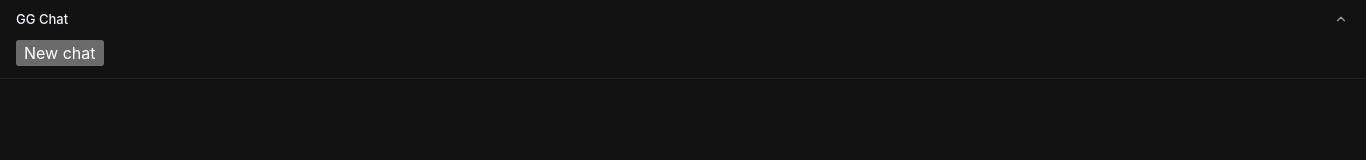
it: WorkspaceHeader › renders the chevron in chat mode and toggles the navbar
The width and height of the screenshot is (1366, 160).
Expected: the text "GG Chat" is shown, [16,11,68,27]
Expected: the button "New chat" is shown, [16,40,104,66]
Click the button named "Hide nav buttons" at (1341, 19), box [1332,10,1350,28]
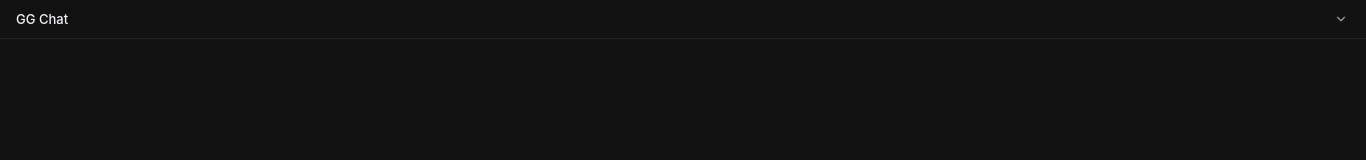
Now the button "New chat" is gone
Now the button named "Show nav buttons" is collapsed
Click the button named "Show nav buttons" at (1341, 19), box [1332,10,1350,28]
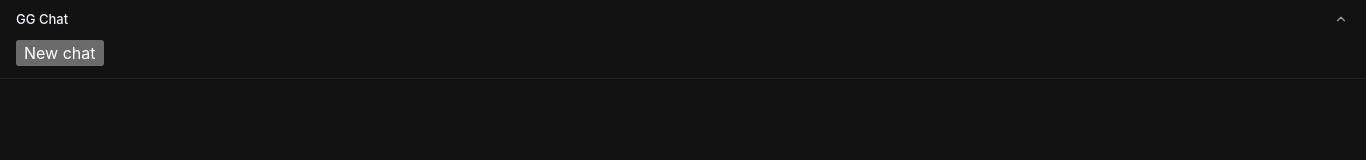
Now the button "New chat" is shown, box [16,40,104,66]
